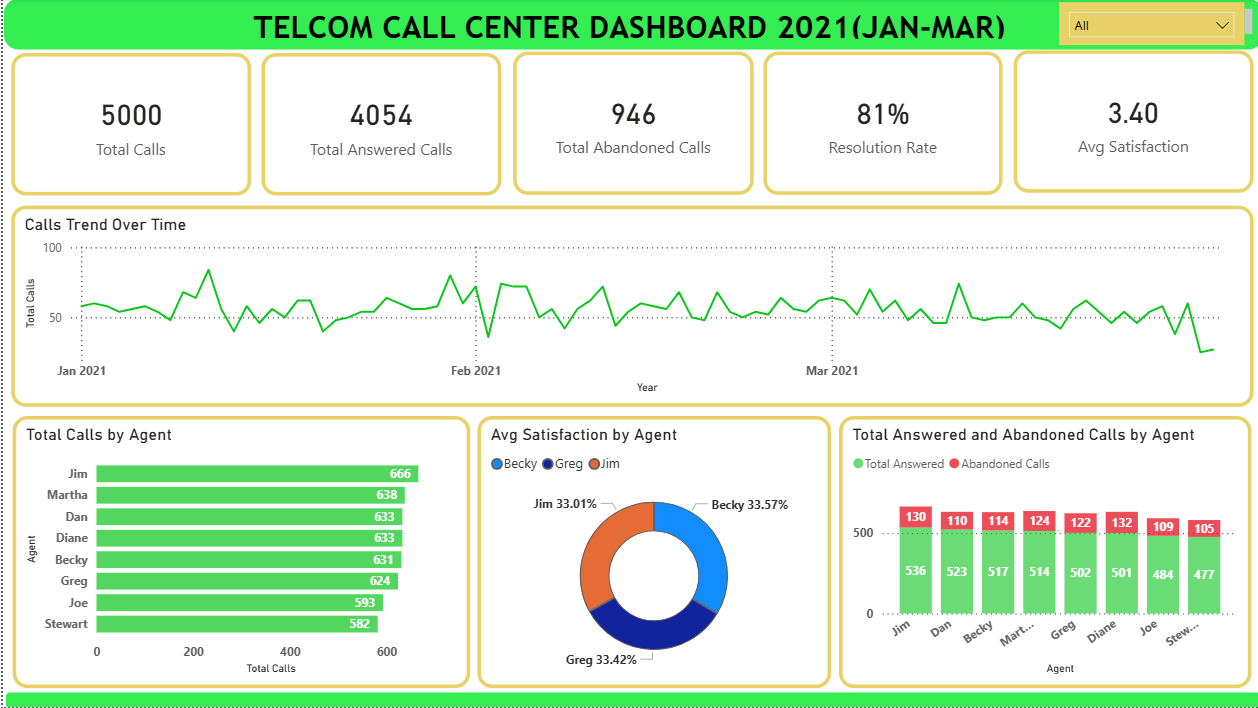

This screenshot's page, from the dashboard's own definition file:
{"tool":"powerbi","page":{"name":"Page 1","canvas":[1280,720],"ordinal":0},"visuals":[{"type":"card","fields":{"Values":["Call Center.Total Calls"]},"box":[8.1,56.4,243.4,145.1],"z":0},{"type":"card","fields":{"Values":["Call Center.Total Answered Calls"]},"box":[262.7,56.4,243.4,145.1],"z":1000},{"type":"card","fields":{"Values":["Call Center.Total Abandoned Calls"]},"box":[518.1,54.5,244.4,145.2],"z":2000},{"type":"card","fields":{"Values":["Call Center.Resolution Rate"]},"box":[772.3,54.5,243,145.2],"z":3000},{"type":"card","fields":{"Values":["Call Center.Avg Satisfaction"]},"box":[1026.7,53.2,243.4,145.1],"z":4000},{"type":"lineChart","title":"Calls Trend Over Time","fields":{"Y":["Call Center.Total Calls"],"Category":["Call Center.Date.Variation.Date Hierarchy.Year","Call Center.Date.Variation.Date Hierarchy.Month","Call Center.Date.Variation.Date Hierarchy.Day"]},"box":[8.1,211.1,1262,204.7],"z":5000},{"type":"barChart","fields":{"Category":["Call Center.Agent"],"Y":["Call Center.Total Calls"]},"box":[9.8,424.6,465.1,276.5],"z":6000},{"type":"columnChart","fields":{"Category":["Call Center.Agent"],"Y":["Call Center.Total Answered Calls","Call Center.Total Abandoned Calls"]},"box":[849.1,424.6,419,276.5],"z":7000},{"type":"donutChart","fields":{"Category":["Call Center.Agent"],"Y":["Call Center.Avg Satisfaction"]},"box":[481.8,424.6,358.9,276.5],"z":8000},{"type":"textbox","box":[0,0,1280.7,53.1],"z":9000},{"type":"textbox","box":[0,702.5,1280.7,18.2],"z":10000},{"type":"slicer","fields":{"Values":["Call Center.Agent"]},"box":[1072.6,4.2,188.5,43.3],"z":11000}]}

Visuals, with their boxes in screenshot pixels (x1, y1, x2, y2), scaled from the page's 1280x720 canvas onto the 1258x708 screenshot:
card - Call Center.Total Calls: l=8, t=55, r=247, b=198
card - Call Center.Total Answered Calls: l=258, t=55, r=497, b=198
card - Call Center.Total Abandoned Calls: l=509, t=54, r=749, b=196
card - Call Center.Resolution Rate: l=759, t=54, r=998, b=196
card - Call Center.Avg Satisfaction: l=1009, t=52, r=1248, b=195
"Calls Trend Over Time" lineChart: l=8, t=208, r=1248, b=409
barChart - Call Center.Agent x Call Center.Total Calls: l=10, t=418, r=467, b=689
columnChart - Call Center.Agent x Call Center.Total Answered Calls: l=835, t=418, r=1246, b=689
donutChart - Call Center.Agent x Call Center.Avg Satisfaction: l=474, t=418, r=826, b=689
textbox: l=0, t=0, r=1257, b=52
textbox: l=0, t=691, r=1257, b=707
slicer - Call Center.Agent: l=1054, t=4, r=1239, b=47
